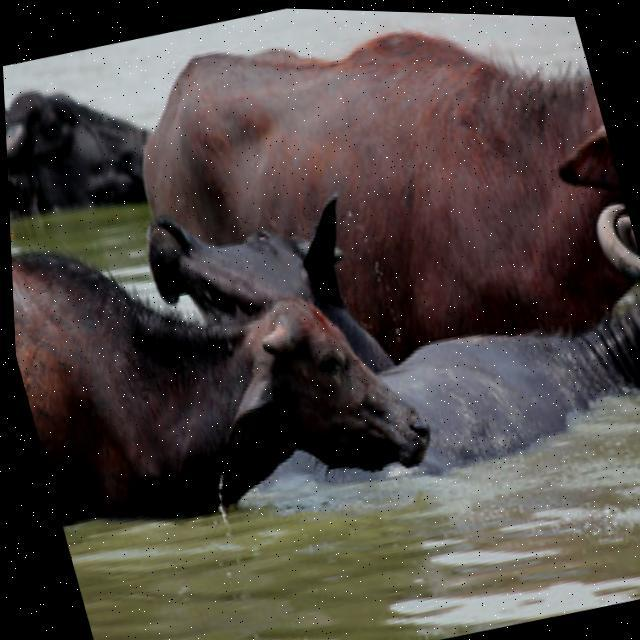Buffalo: (7, 163, 447, 562), (2, 38, 161, 227)
